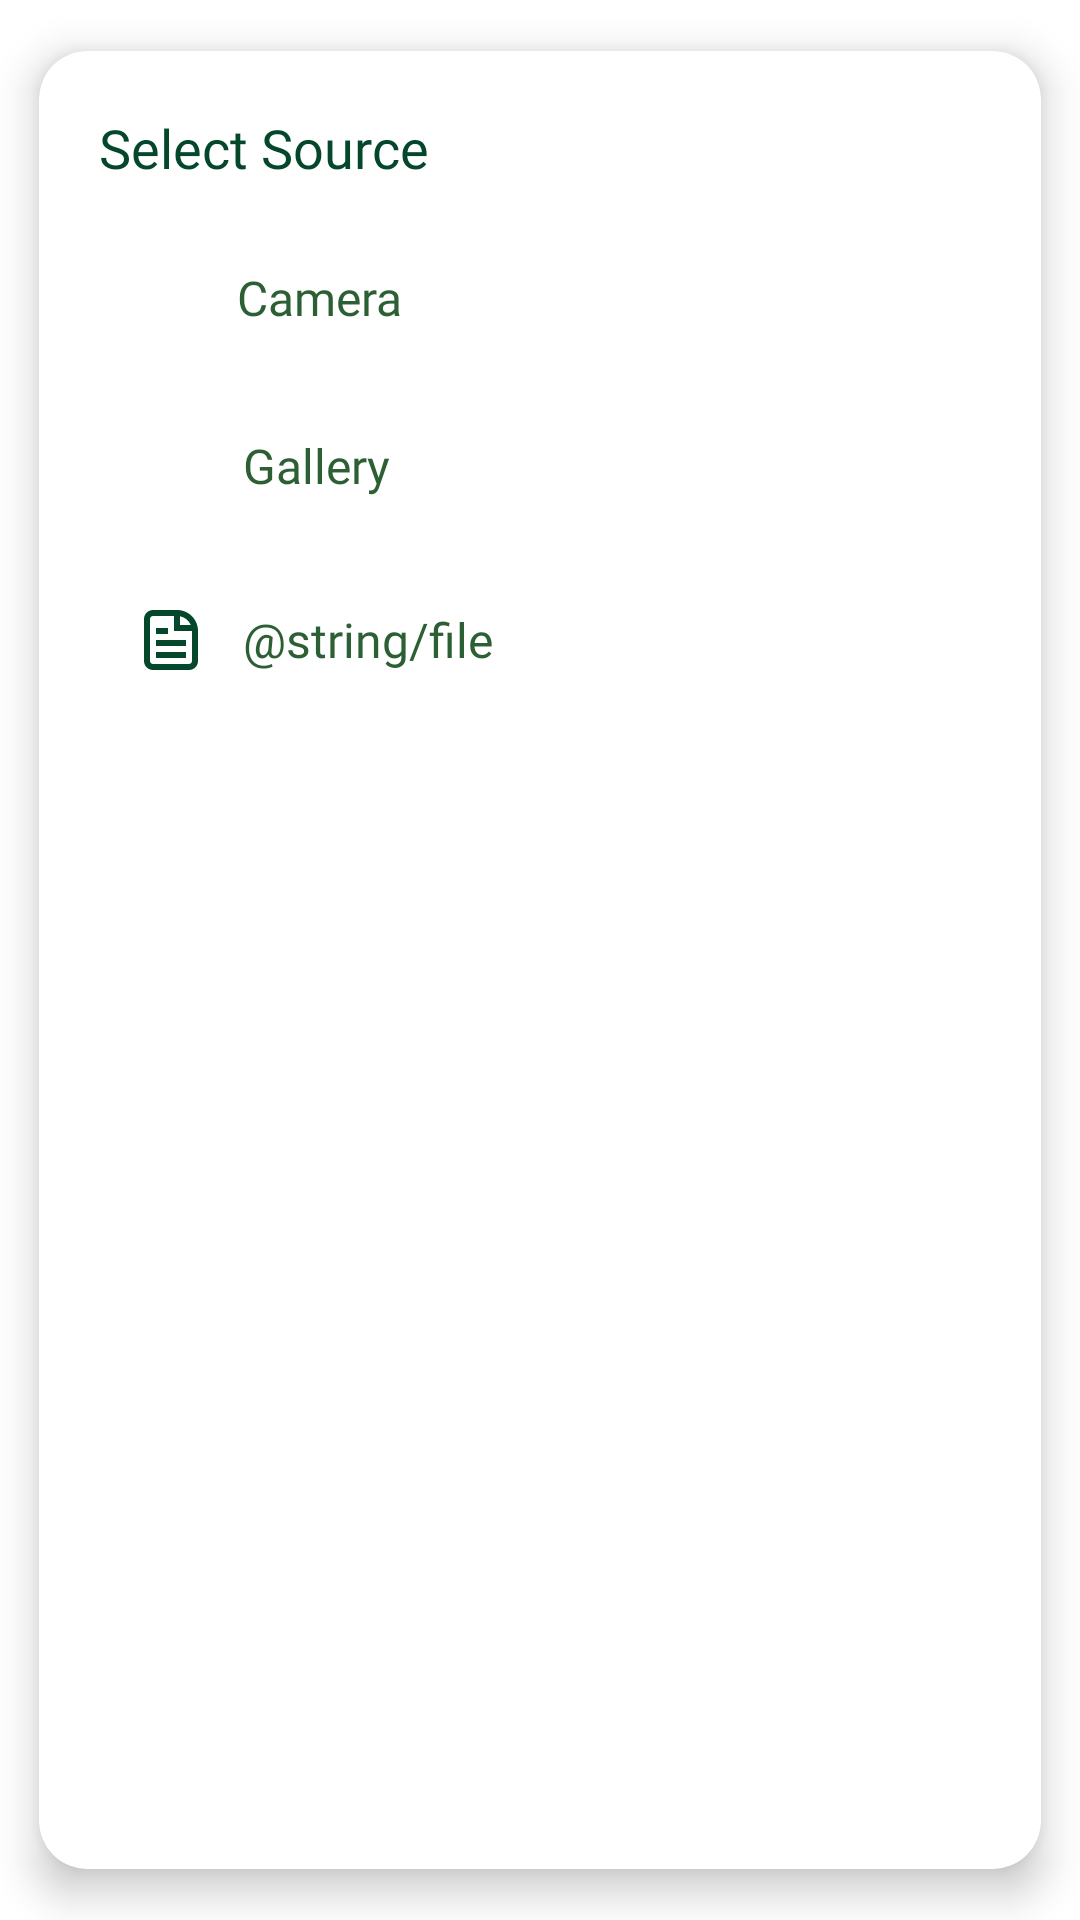

Icon bounding boxes for this 1080×1920 phone screenshot, format (x1, y1, x2, y2):
file document: (144, 610, 198, 670)
